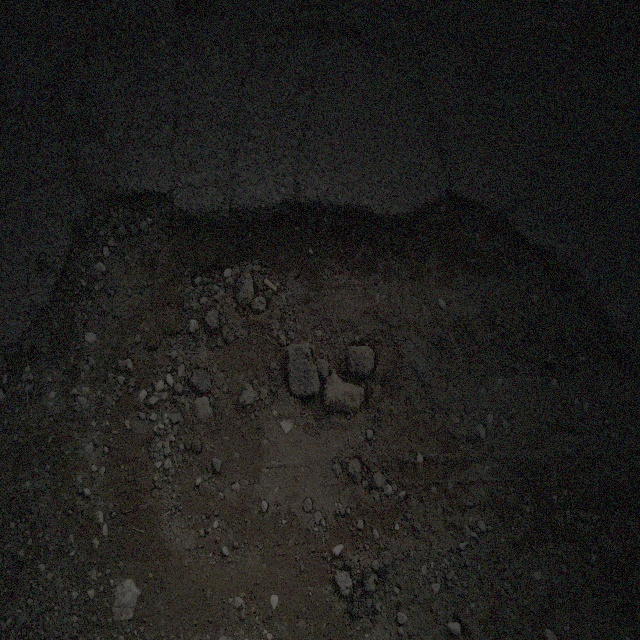pothole: (43, 162, 498, 420)
